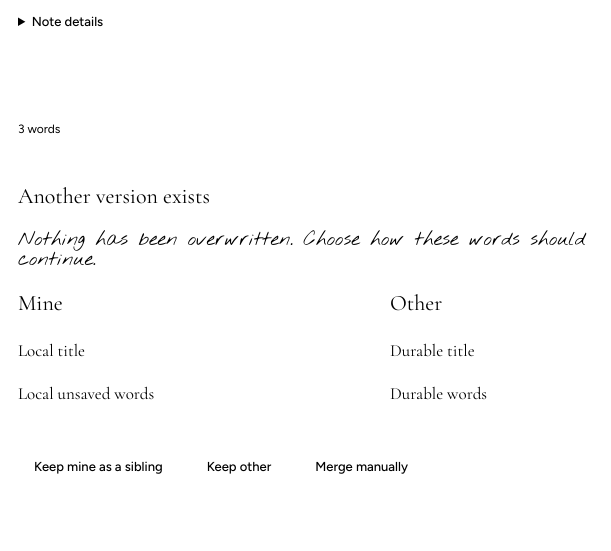
keeps both versions when a required conflict snapshot cannot be created
(page scrolled)
Click the button "Keep other" at (239, 467), box [191,445,287,489]
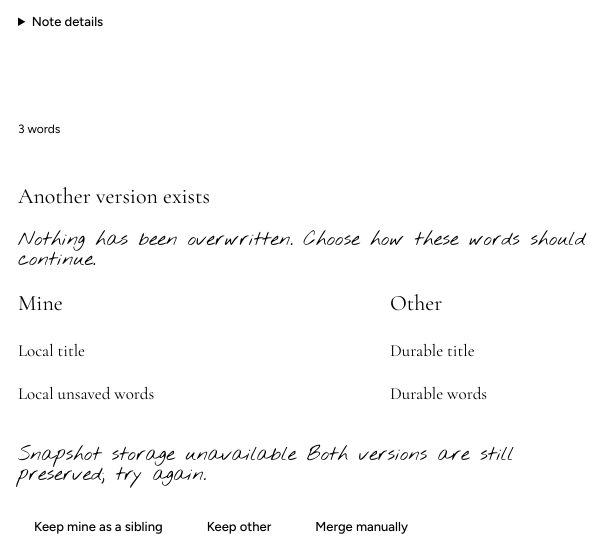
Check: the text "Snapshot storage unavailable Both versions are still preserved; try again." is shown, box [18,445,594,485]
